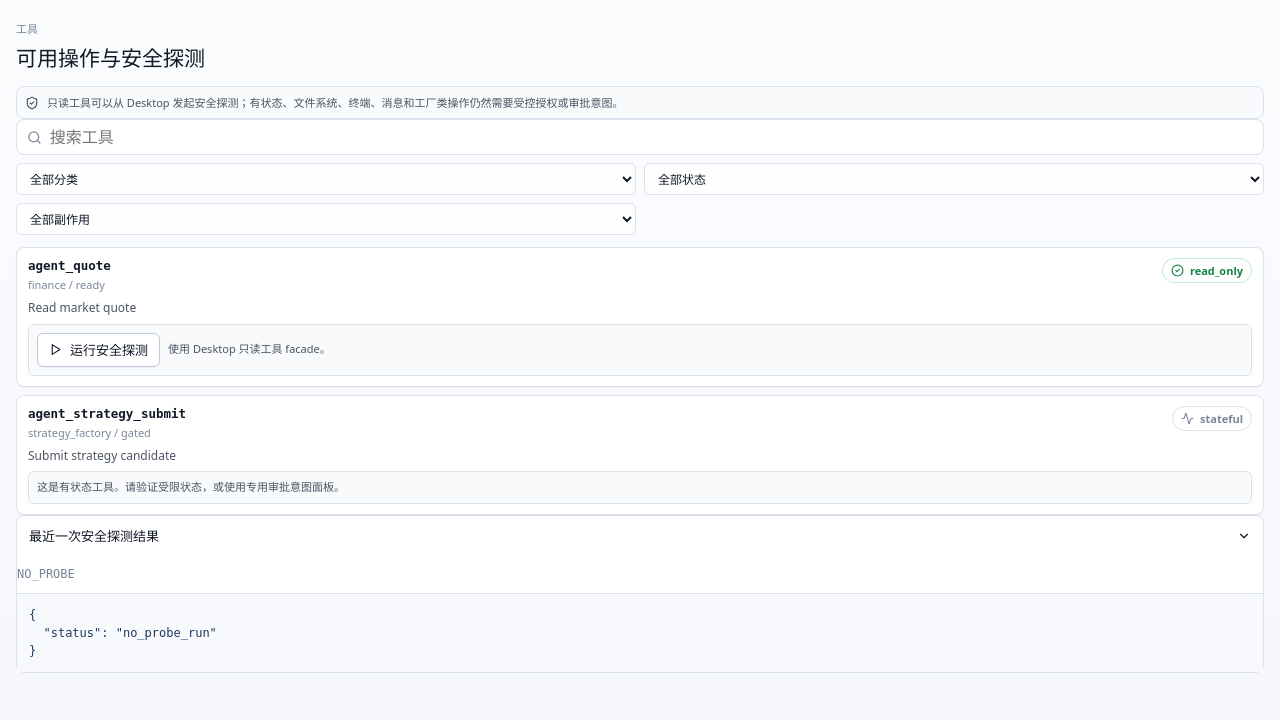
Test: ToolCatalog › deduplicates Hermes tools and filters by side effect
Expected: the text "agent_quote" is shown once, [28,258,111,273]
Expected: the text "agent_strategy_submit" is shown, [28,406,186,421]
Select "ready" in the 2nd dropdown. click: coordinates (954, 179)
box: [644,163,1264,195]
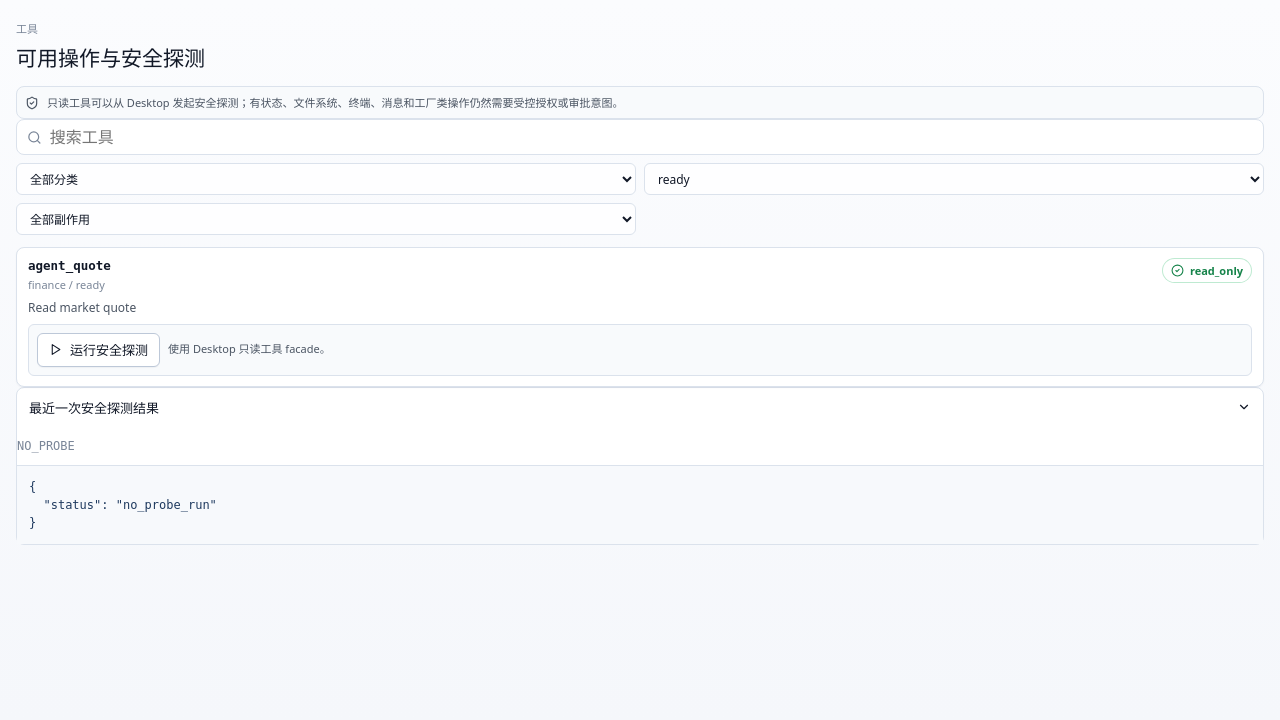
Expected: the text "agent_quote" is shown, [28,258,111,273]
Expected: the text "agent_strategy_submit" is gone
Select "全部状态" in the 2nd dropdown. click: coordinates (954, 179)
box: [644,163,1264,195]
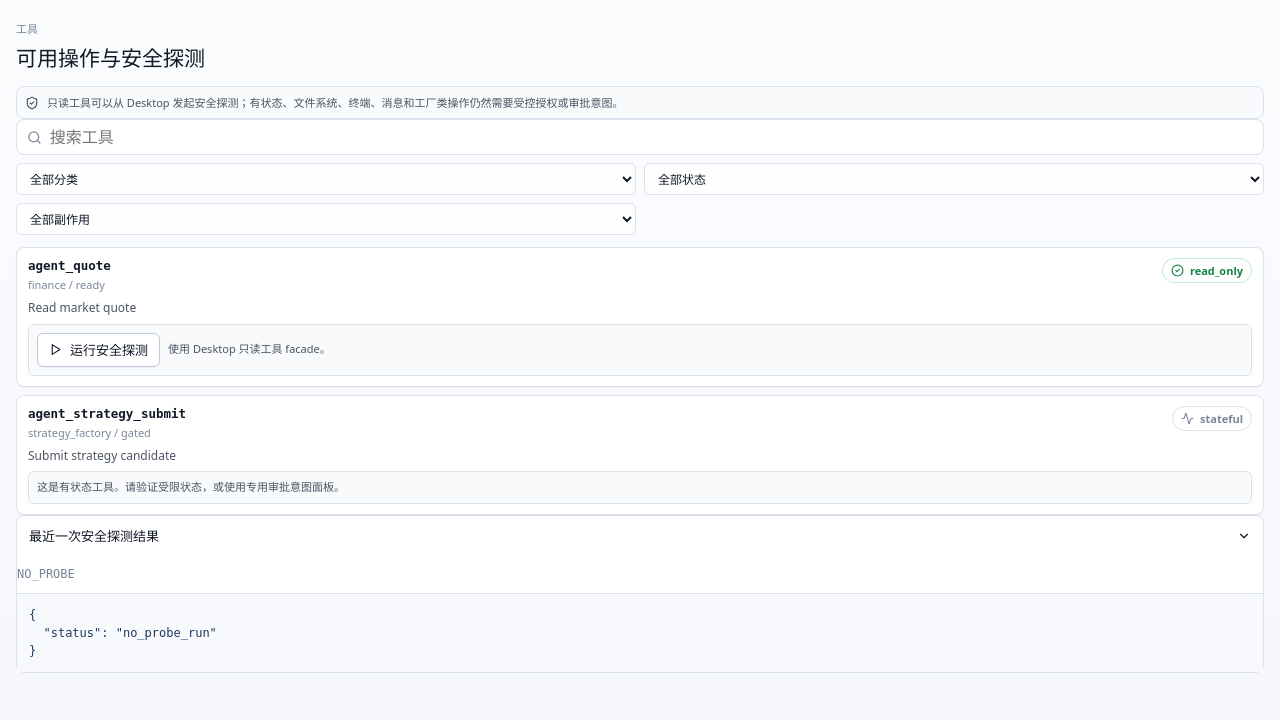
Select "read_only" in the 3rd dropdown. click: coordinates (326, 219)
box: [16,203,636,235]
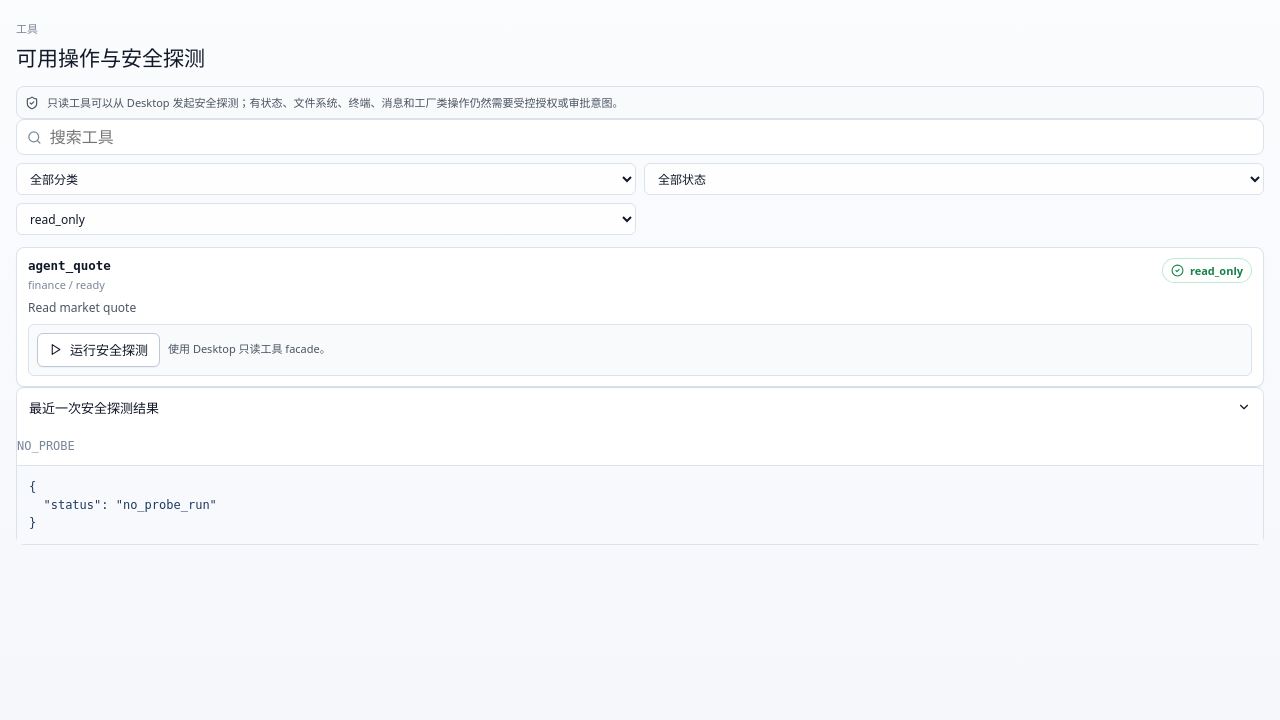
Expected: the text "agent_quote" is shown, [28,258,111,273]
Expected: the text "agent_strategy_submit" is gone
